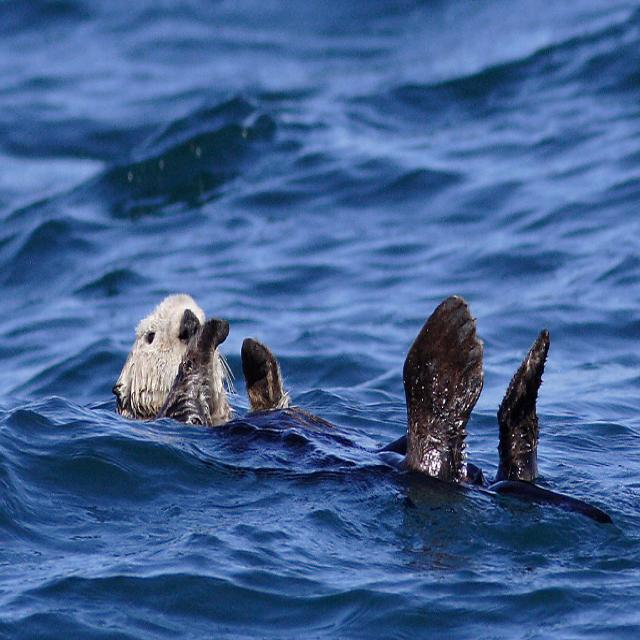otter: (116, 291, 552, 494)
